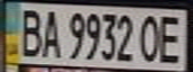2: (115, 10, 139, 62)
3: (100, 9, 121, 62)
9: (81, 9, 103, 61), (63, 8, 84, 61)
A: (36, 7, 63, 58)
B: (15, 6, 45, 58)
E: (154, 11, 187, 64)
O: (136, 11, 163, 63)
